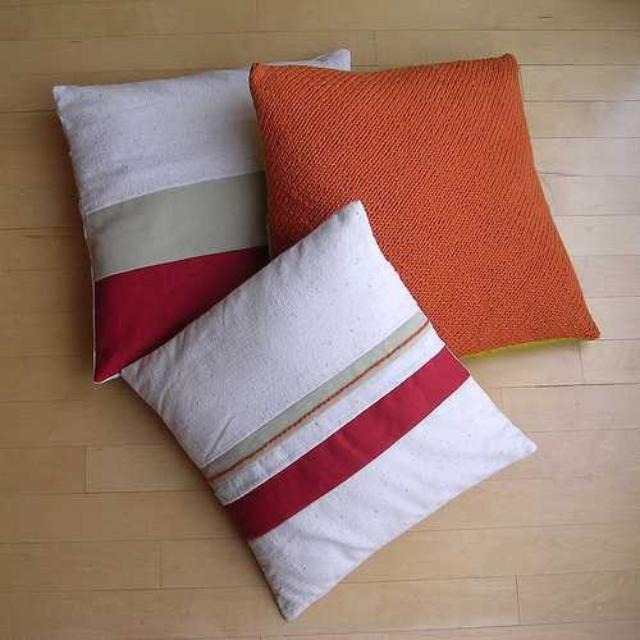pillow: (118, 198, 538, 622), (248, 51, 600, 360), (50, 48, 352, 386)
